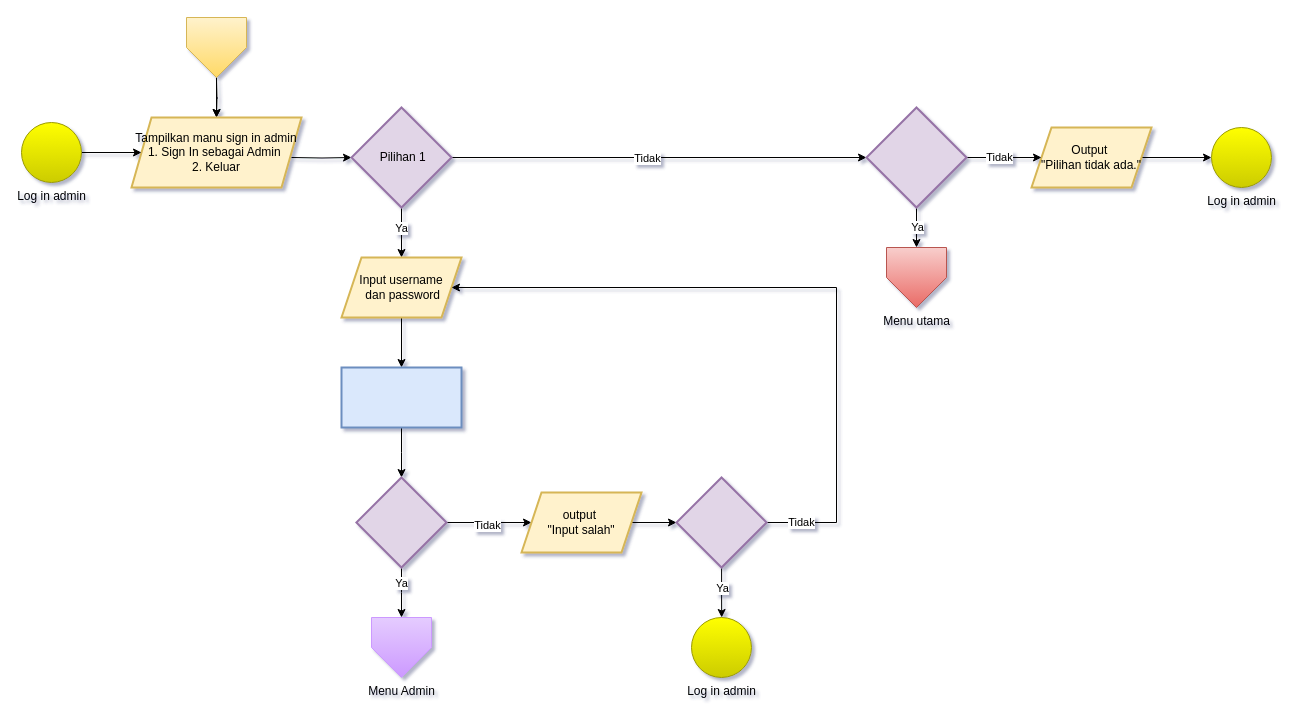
Some shapes in this 1299 by 722 pixel diagram are drawn without their labels. The centre of each missing label's shape, as x and y in pixels:
membaca data list admins: (x=401, y=397)
Menu Login admin: (x=216, y=47)
Pilihan 2: (x=916, y=157)
Sudah gagal 3 kali?: (x=721, y=522)
username dan password benar?: (x=401, y=522)
